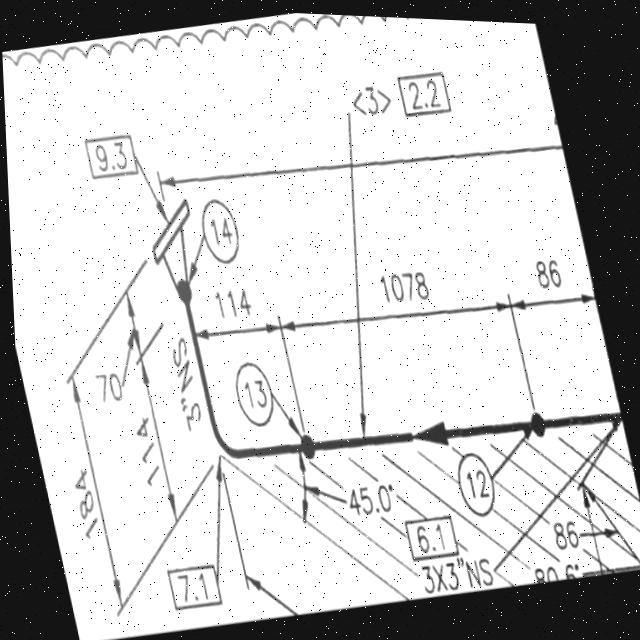Item number: (77, 126, 141, 185), (392, 62, 454, 117), (395, 507, 456, 562), (157, 558, 219, 611)
Measrement: (269, 245, 511, 342), (46, 351, 127, 630), (123, 347, 180, 546), (285, 448, 394, 535), (300, 515, 403, 594), (497, 234, 595, 311), (183, 276, 283, 349), (88, 282, 142, 408), (163, 316, 202, 448), (407, 531, 490, 591), (544, 504, 622, 551)
Pipeline: (177, 294, 620, 467)
Symbol: (137, 190, 211, 313), (399, 398, 454, 463)
Weld number: (189, 188, 245, 270), (221, 351, 276, 432), (444, 441, 498, 517)
